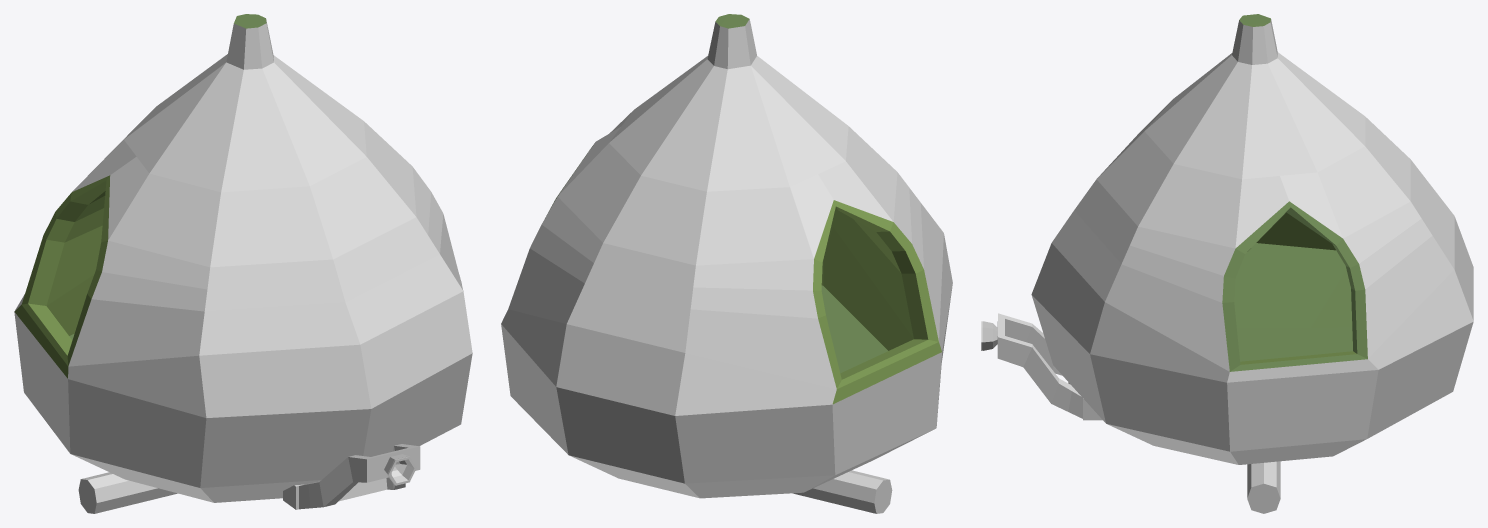
File: Big_onion.fbx
3 views of the same model, side by side, from view 1: azimuth 30°, elevation 25°; view 2: azimuth 150°, elevation 25°; view 3: azimuth 270°, elevation 25° (orthographic). The views are drawn at different scales.
Parts seen in each view (by area): view 1: polySurface61; view 2: polySurface61; view 3: polySurface61.
Part boxes in pixels (x1=…): polySurface61: x1=14, y1=14, x2=472, y2=513; polySurface61: x1=501, y1=14, x2=952, y2=513; polySurface61: x1=981, y1=14, x2=1473, y2=513.
Size of the model in its own units: 160 by 181 by 189.
